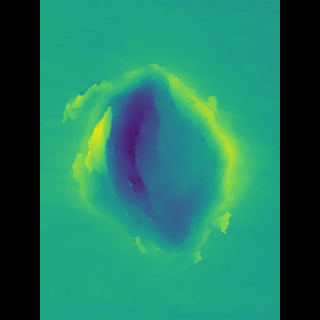Loch: (84, 60, 238, 275)
